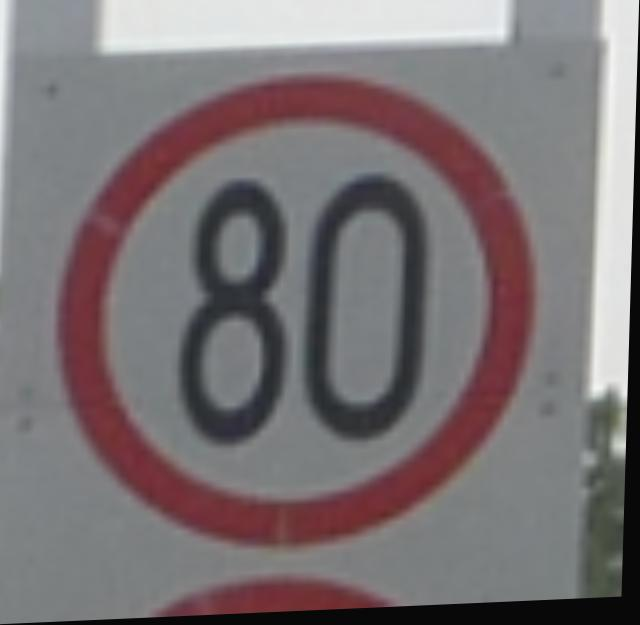limit80: (43, 60, 552, 565)
